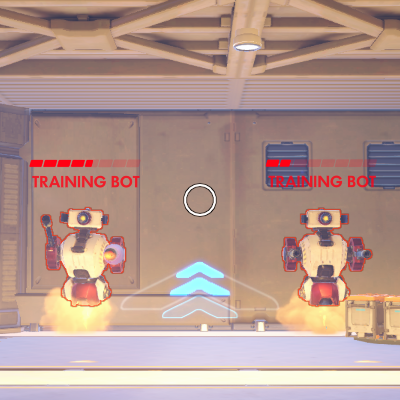hpbar: (29, 159, 141, 168), (265, 159, 377, 168)
